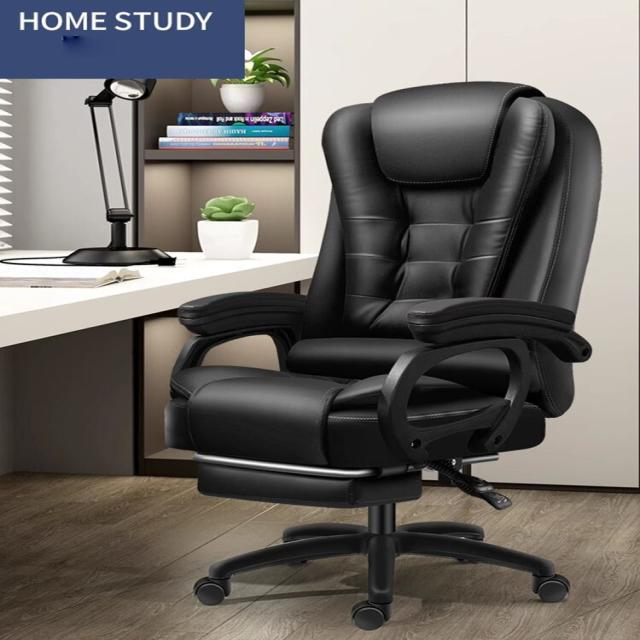chair: (72, 59, 640, 640)
